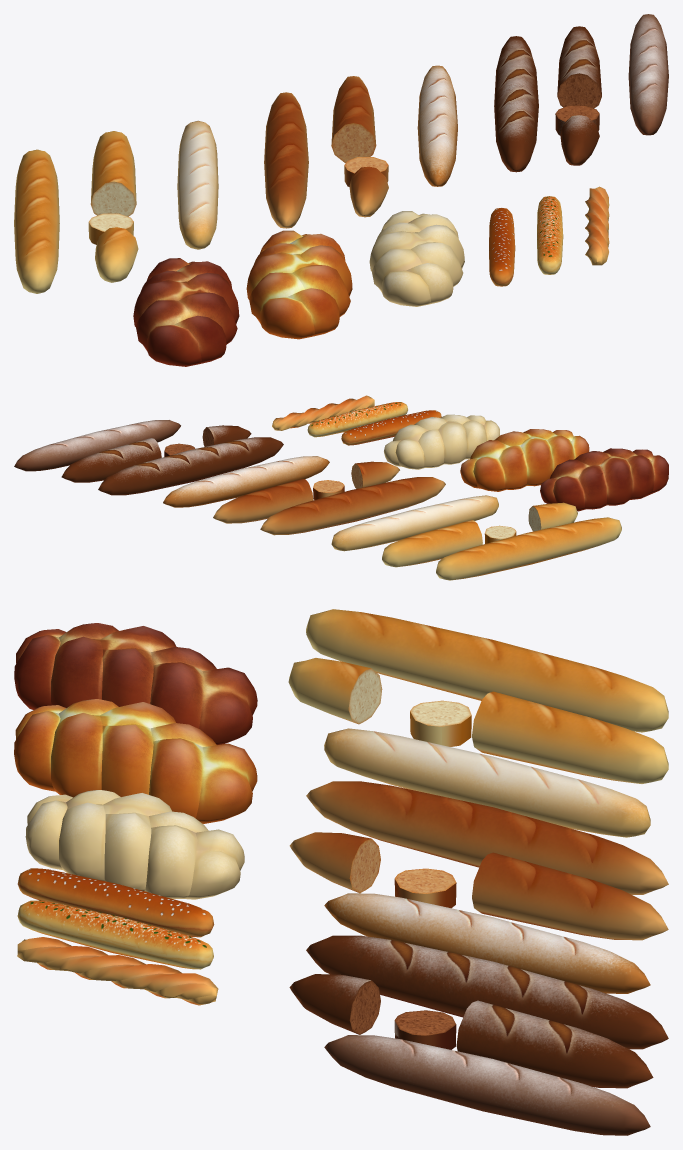
Rendered from Cartoon Challah and French Baguettes.fbx.
3 renders of one model, top to bottom at view 1: azimuth 30°, elevation 25°; view 2: azimuth 150°, elevation 25°; view 3: azimuth 270°, elevation 25°, orthographic. The views are drawn at different scales.
Visible parts, largest first — view 1: Challah_02, Challah_01, Challah_02__1_, Baguette_01, Baguette_02, Baguette_03, Baguette_01_Dough, Baguette_03_Dough, Baguette_02_Dough, Baguette_01_Half, Baguette_02_Half, Baguette_03_Half (+9 smaller); view 2: Challah_01, Challah_02, Baguette_01, Baguette_03, Baguette_02, Challah_02__1_, Baguette_01_Dough, Baguette_02_Dough, Baguette_03_Dough, Baguette_01_Half, Baguette_02_Half, Baguette_03_Half (+8 smaller); view 3: Challah_02, Baguette_01, Challah_01, Baguette_02, Challah_02__1_, Baguette_03, Baguette_01_Dough, Baguette_03_Dough, Baguette_02_Dough, Baguette_01_Half, Baguette_02_Half, Baguette_03_Half (+9 smaller).
Part boxes in pixels (bbox=[...]): Challah_02: bbox=[246, 230, 352, 339]; Challah_01: bbox=[133, 258, 239, 366]; Challah_02__1_: bbox=[369, 211, 464, 306]; Baguette_01: bbox=[14, 149, 59, 293]; Baguette_02: bbox=[264, 92, 308, 228]; Baguette_03: bbox=[494, 36, 538, 172]; Baguette_01_Dough: bbox=[177, 120, 218, 249]; Baguette_03_Dough: bbox=[628, 14, 668, 135]; Baguette_02_Dough: bbox=[417, 65, 457, 186]; Baguette_01_Half: bbox=[90, 131, 136, 216]; Baguette_02_Half: bbox=[331, 76, 376, 162]; Baguette_03_Half: bbox=[557, 26, 601, 108]; Challah_01: bbox=[540, 448, 668, 511]; Challah_02: bbox=[460, 429, 589, 491]; Baguette_01: bbox=[436, 517, 621, 580]; Baguette_03: bbox=[98, 437, 283, 495]; Baguette_02: bbox=[260, 477, 445, 535]; Challah_02__1_: bbox=[384, 414, 499, 469]; Baguette_01_Dough: bbox=[331, 495, 498, 551]; Baguette_02_Dough: bbox=[163, 456, 329, 507]; Baguette_03_Dough: bbox=[14, 420, 180, 471]; Baguette_01_Half: bbox=[382, 520, 482, 567]; Baguette_02_Half: bbox=[213, 478, 313, 523]; Baguette_03_Half: bbox=[61, 438, 161, 482]; Challah_02: bbox=[14, 699, 257, 823]; Baguette_01: bbox=[306, 609, 668, 732]; Challah_01: bbox=[14, 623, 257, 744]; Baguette_02: bbox=[306, 781, 668, 894]; Challah_02__1_: bbox=[25, 790, 244, 899]; Baguette_03: bbox=[306, 935, 668, 1049]; Baguette_01_Dough: bbox=[324, 728, 650, 837]; Baguette_03_Dough: bbox=[324, 1035, 650, 1135]; Baguette_02_Dough: bbox=[324, 893, 650, 993]; Baguette_01_Half: bbox=[472, 691, 668, 783]; Baguette_02_Half: bbox=[472, 852, 668, 940]; Baguette_03_Half: bbox=[456, 1000, 653, 1088].
Size of the model in its own units: 387 by 25.44 by 215.
Materials: 6 (6 with a texture image).
